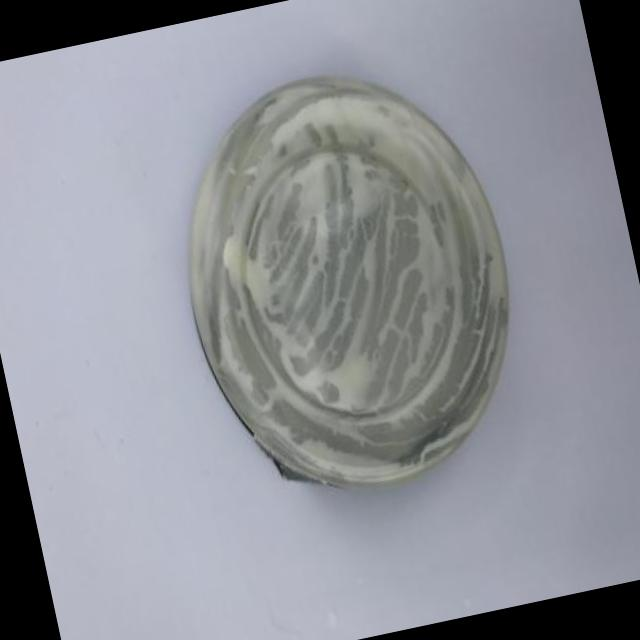Trash: (150, 47, 551, 523)
